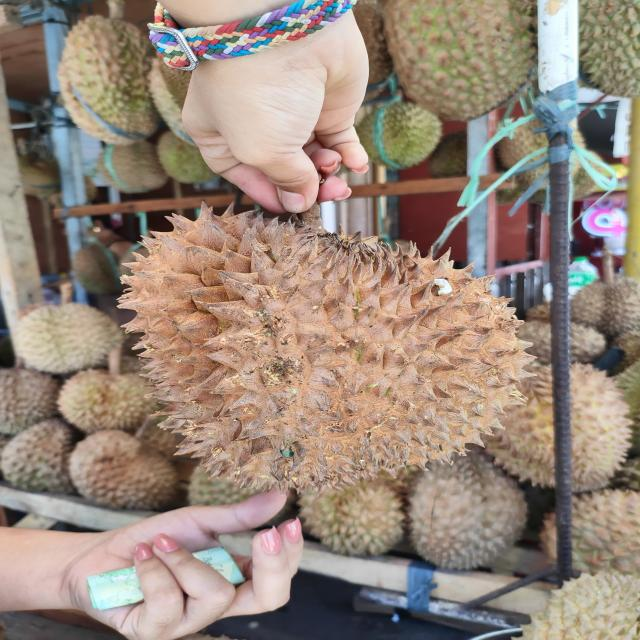mature: (105, 206, 538, 494)
